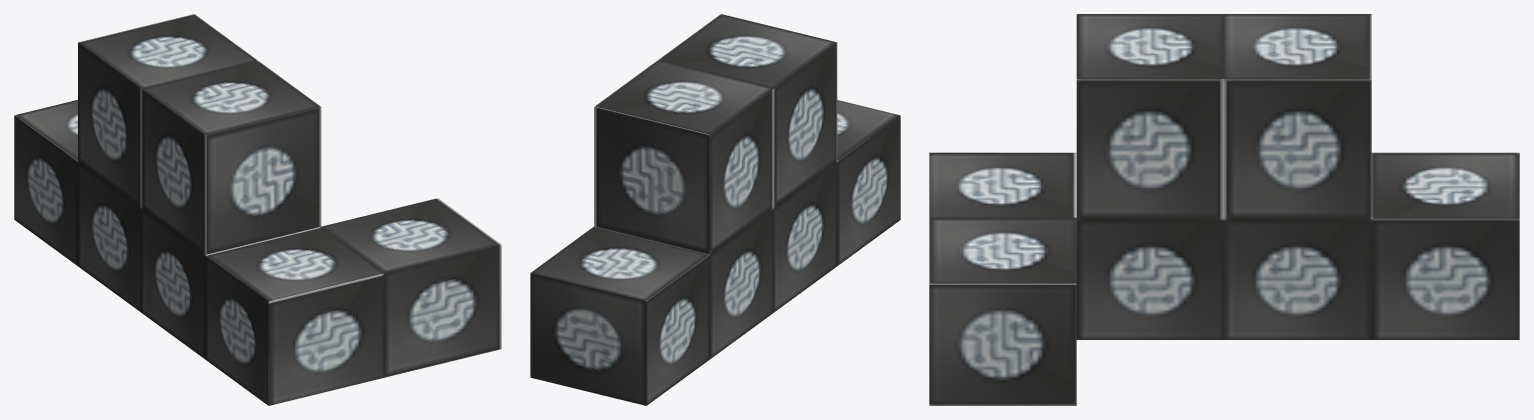
File: Nivel2MovingPlatform.fbx
3 views of the same model, side by side, from view 1: azimuth 30°, elevation 25°; view 2: azimuth 150°, elevation 25°; view 3: azimuth 270°, elevation 25° (orthographic). The views are drawn at different scales.
Visible parts, largest first — view 1: ascensor03; view 2: ascensor03; view 3: ascensor03.
Boxes of the visible parts, <box> form: ascensor03: <box>14,14,501,405</box>; ascensor03: <box>530,14,900,405</box>; ascensor03: <box>929,14,1519,405</box>.
Bounding box in the file's own units: 1.98 × 1.82 × 3.74.
1 material, 1 textured.
